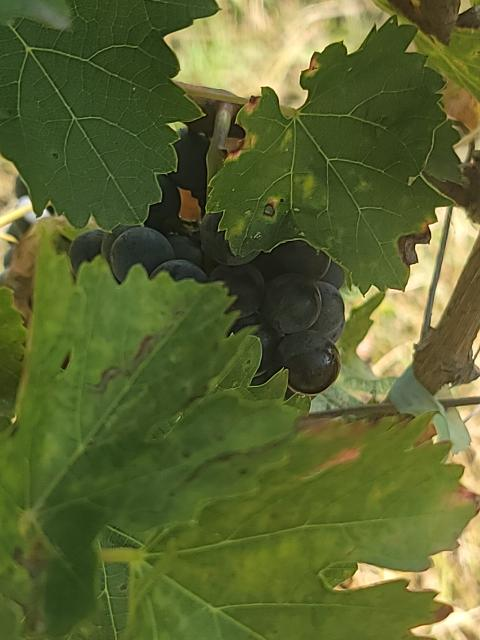grapes: (70, 212, 345, 395)
